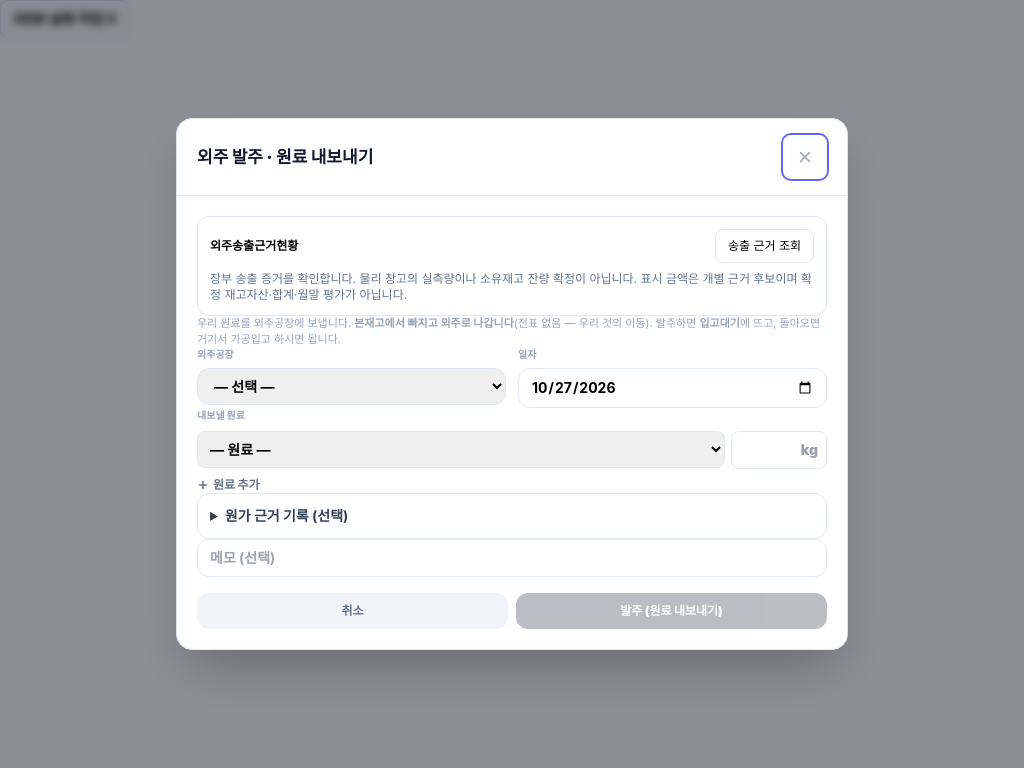
it: 결과 확인은 원문과 재고를 바꾸지 않고 실제 상태와 조치를 먼저 표시한다
Select "외주공장" in the dropdown below "일자". click: (352, 386)
box: [197,368,506,405]
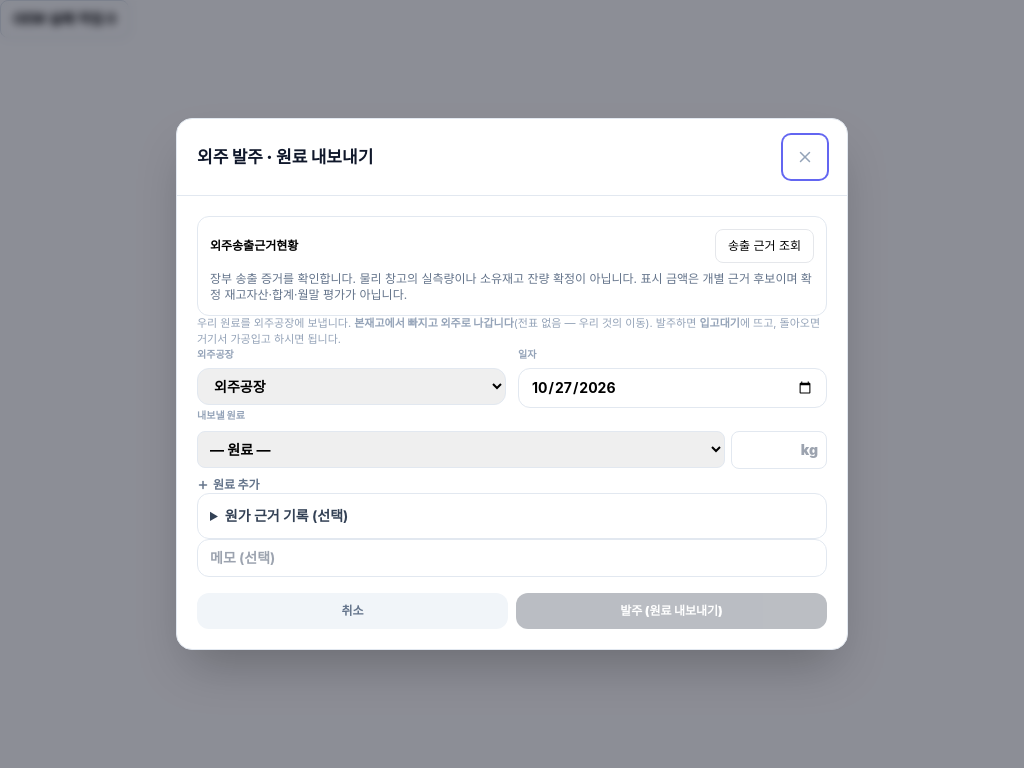
Select "들깨" in the dropdown below "내보낼 원료". click: (461, 450)
box: [197,431,725,468]
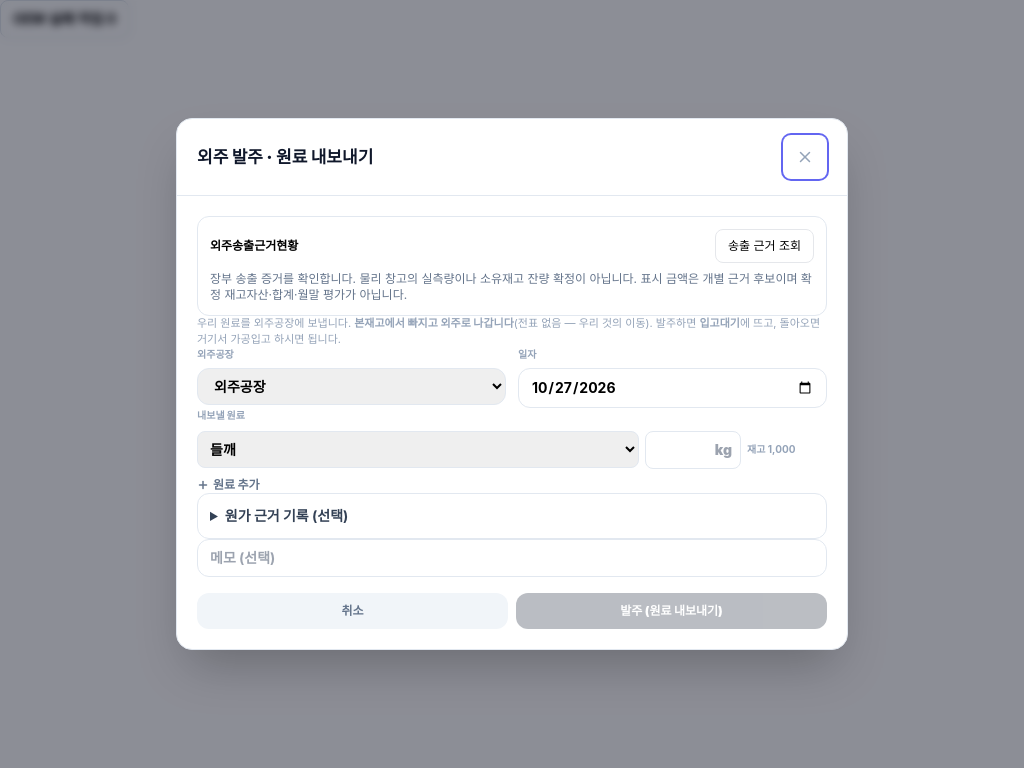
Type "100" into the field with placeholder "kg". click: (693, 450)
box: [645,431,741,469]
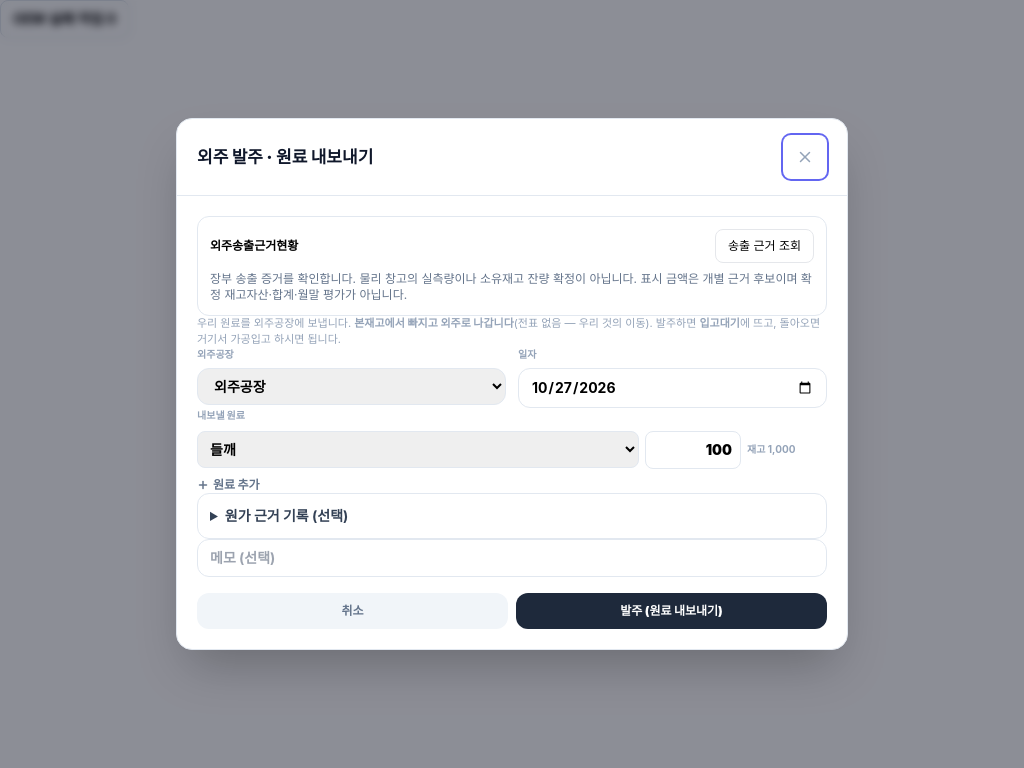
Click the button "발주 (원료 내보내기)". click: (672, 611)
box: [516,593,827,629]
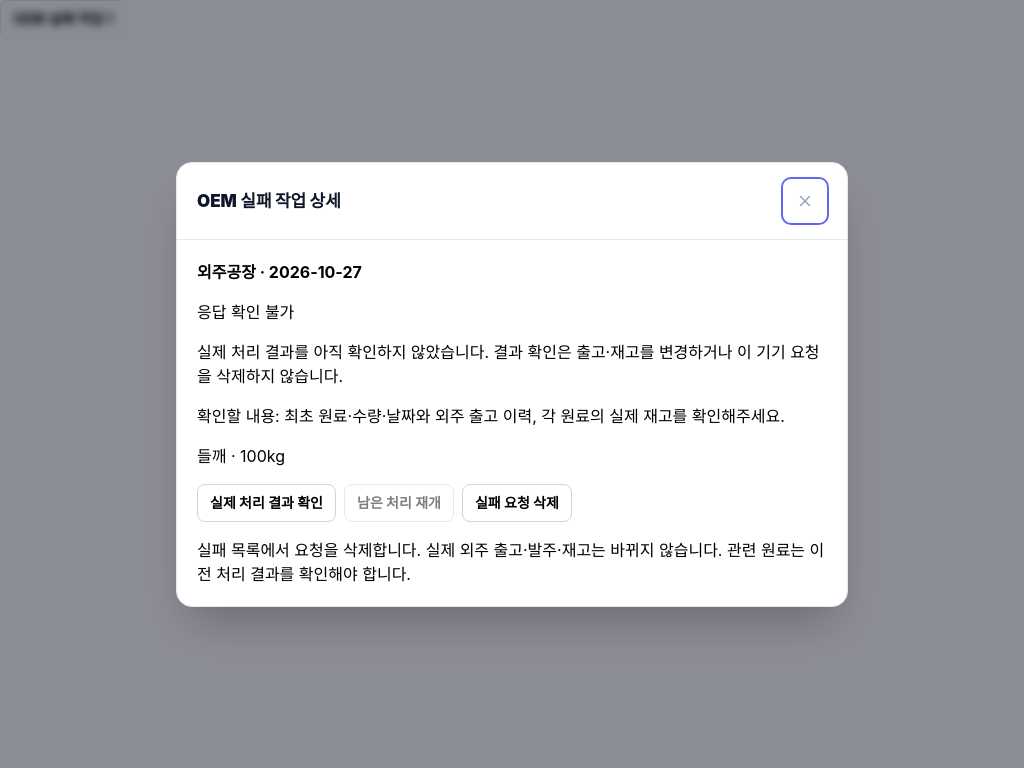
Check: the dialog "OEM 실패 작업 상세" is shown, box [176,162,848,606]
Check: the button "남은 처리 재개" is disabled, box [344,484,454,522]
Click the button "실제 처리 결과 확인". click: (266, 502)
box: [197,484,336,522]
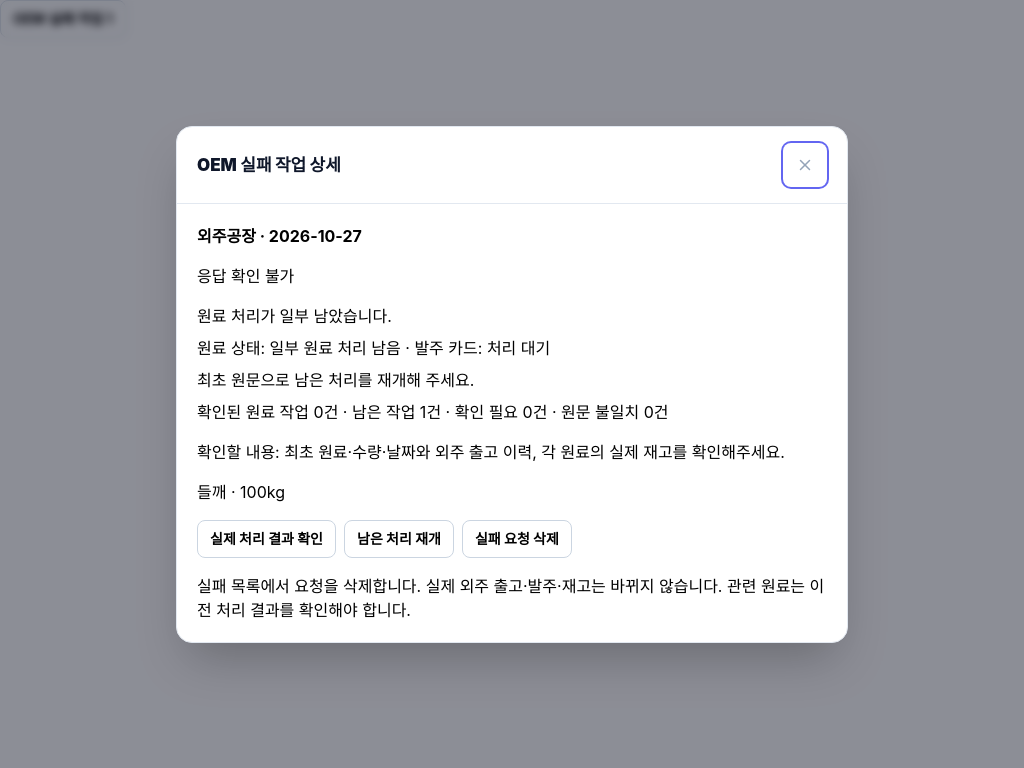
Check: the text "원료 처리가 일부 남았습니다." is shown, box [197,306,392,326]
